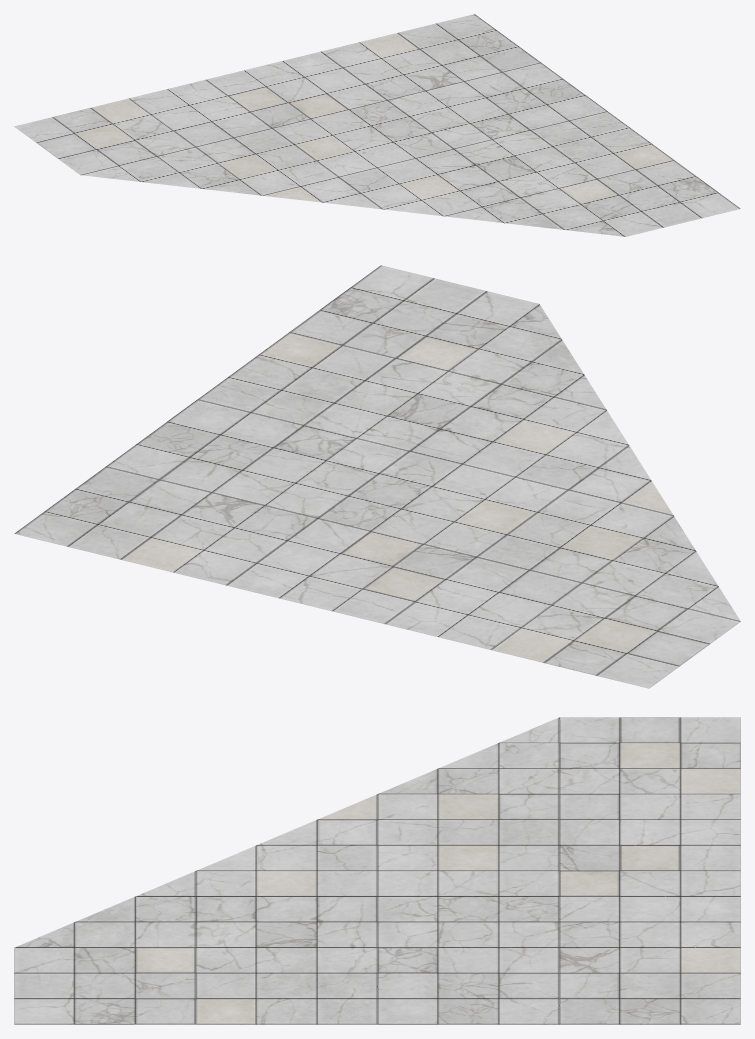
Rendered from MB_Floor_Angle_01.fbx.
3 views of the same model, one above another, from view 1: azimuth 30°, elevation 25°; view 2: azimuth 150°, elevation 25°; view 3: azimuth 270°, elevation 25° (orthographic). The views are drawn at different scales.
Parts seen in each view (by area): view 1: MB_Floor_Angle_01; view 2: MB_Floor_Angle_01; view 3: MB_Floor_Angle_01.
Part boxes in pixels (x1=…): MB_Floor_Angle_01: x1=14, y1=14, x2=740, y2=236; MB_Floor_Angle_01: x1=14, y1=265, x2=740, y2=688; MB_Floor_Angle_01: x1=14, y1=717, x2=740, y2=1024.
Bounding box in the file's own units: 400 × 0.000188 × 400.
